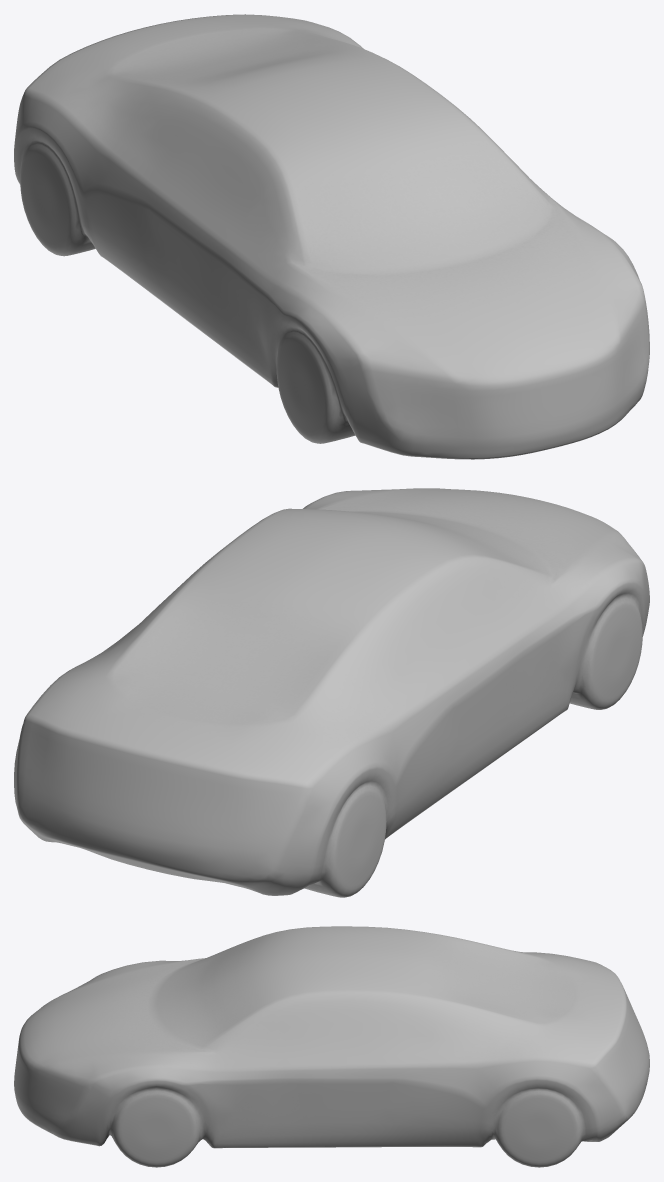
File: generic-car.glb
3 renders of one model, top to bottom at view 1: azimuth 30°, elevation 25°; view 2: azimuth 150°, elevation 25°; view 3: azimuth 270°, elevation 25°, orthographic. The views are drawn at different scales.
Visible parts, largest first — view 1: Sedan; view 2: Sedan; view 3: Sedan.
Part boxes in pixels (bbox=[...]): Sedan: bbox=[14, 14, 649, 459]; Sedan: bbox=[14, 488, 649, 897]; Sedan: bbox=[14, 926, 649, 1167].
Size of what is drawn, in the model's own units: 2.13 by 1.37 by 4.95.
1 material, 1 textured.
